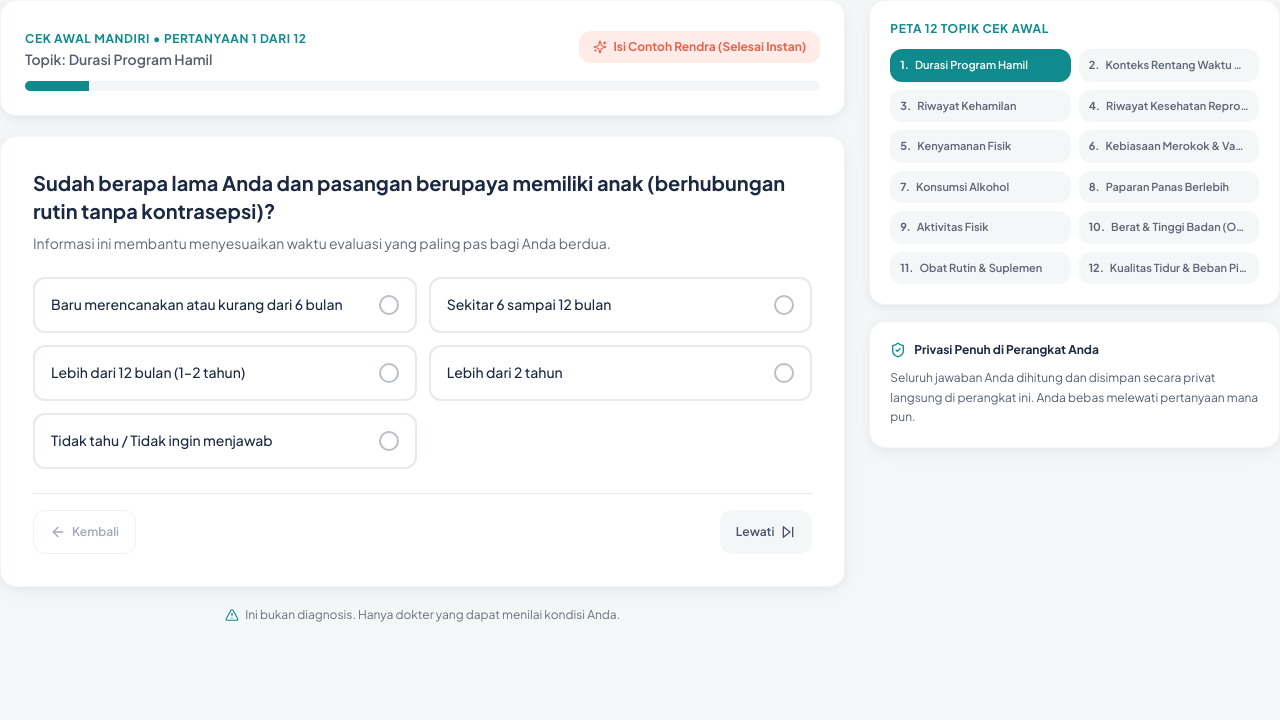
Uji Alur Utama, Privasi & Aksesibilitas Dasar (Side by Side) › Alur 1: Cek Awal berjalan tanpa akun, menampilkan progress bar, dan menyelesaikan hasil dengan disclaimer
Expected: the progress indicator is shown, x1=25 y1=81 x2=820 y2=91
Expected: the heading "Sudah berapa lama Anda dan pasangan berupaya memiliki anak" is shown, x1=33 y1=170 x2=785 y2=223
Klik tombol "Isi Contoh Rendra (Selesai Instan)"
Click the button "Isi Contoh Rendra (Selesai Instan)".
click(700, 47)  # box x1=579 y1=31 x2=820 y2=63
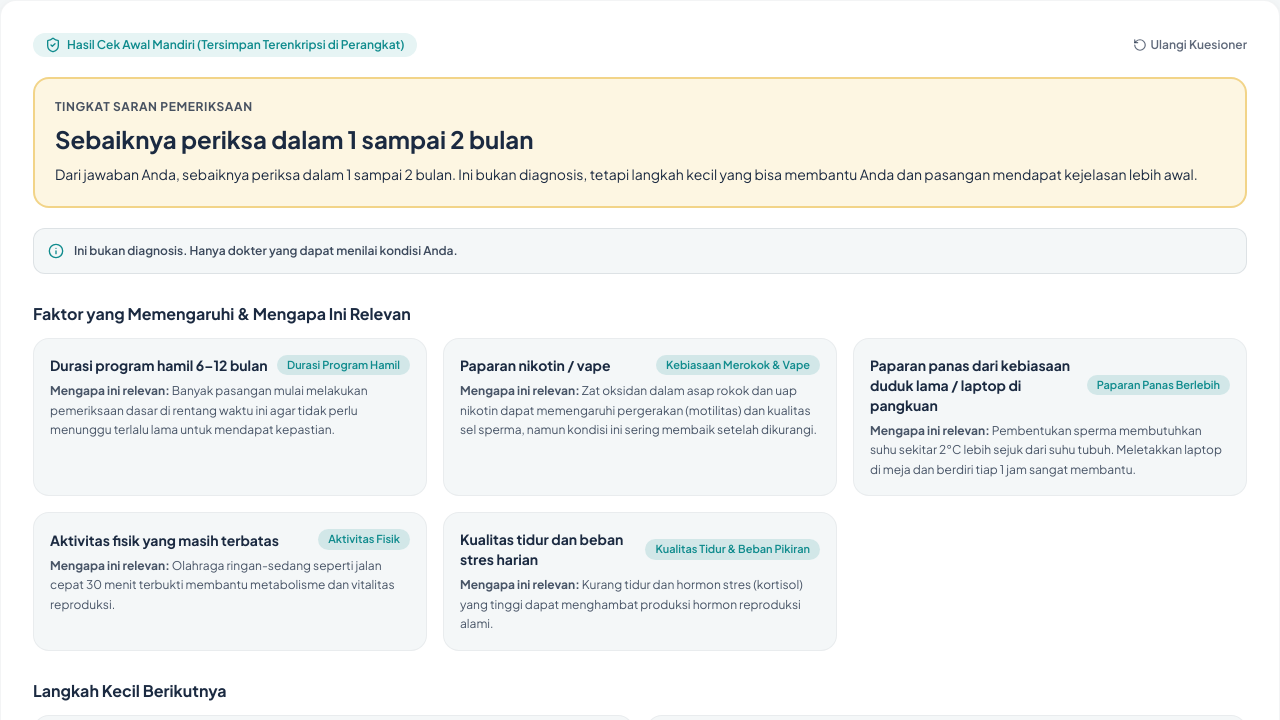
Expected: the text "Ini bukan diagnosis. Hanya dokter yang dapat menilai kondisi Anda." is shown, x1=74 y1=243 x2=458 y2=259
Now the heading "Sebaiknya periksa dalam 1 sampai 2 bulan" is shown, box x1=55 y1=124 x2=534 y2=154
